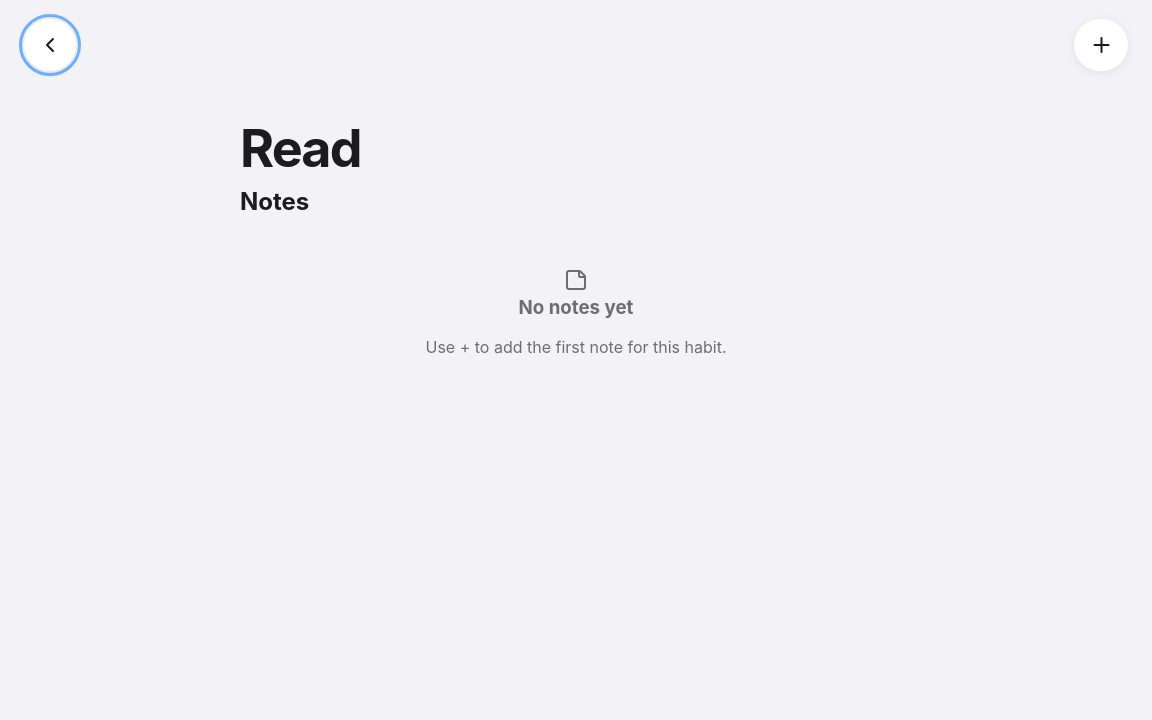
Test: blocks a new note in an inactive period but allows an existing note there
Later steps or results of the test are not shown.
Expected: the heading "No notes yet" is shown, [518,296,633,318]
Click the button named "Add habit note" at [1101, 45], box [1074,19,1128,71]
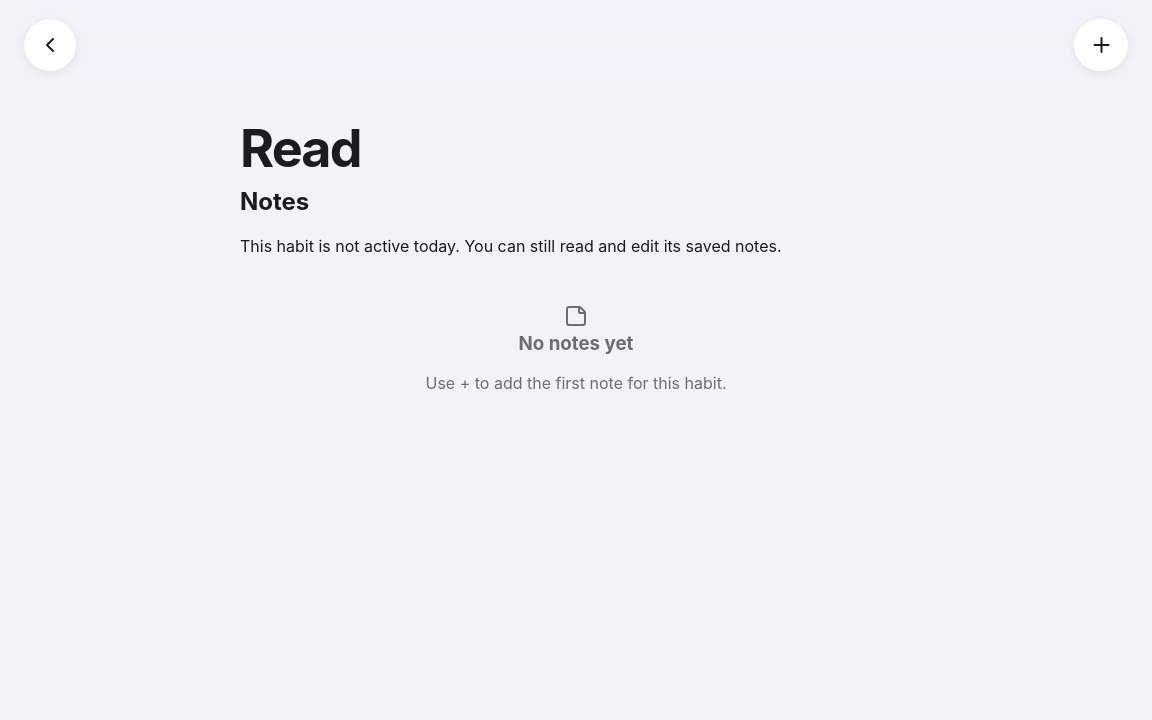
Now the message shows "not active", box [240,236,782,256]
